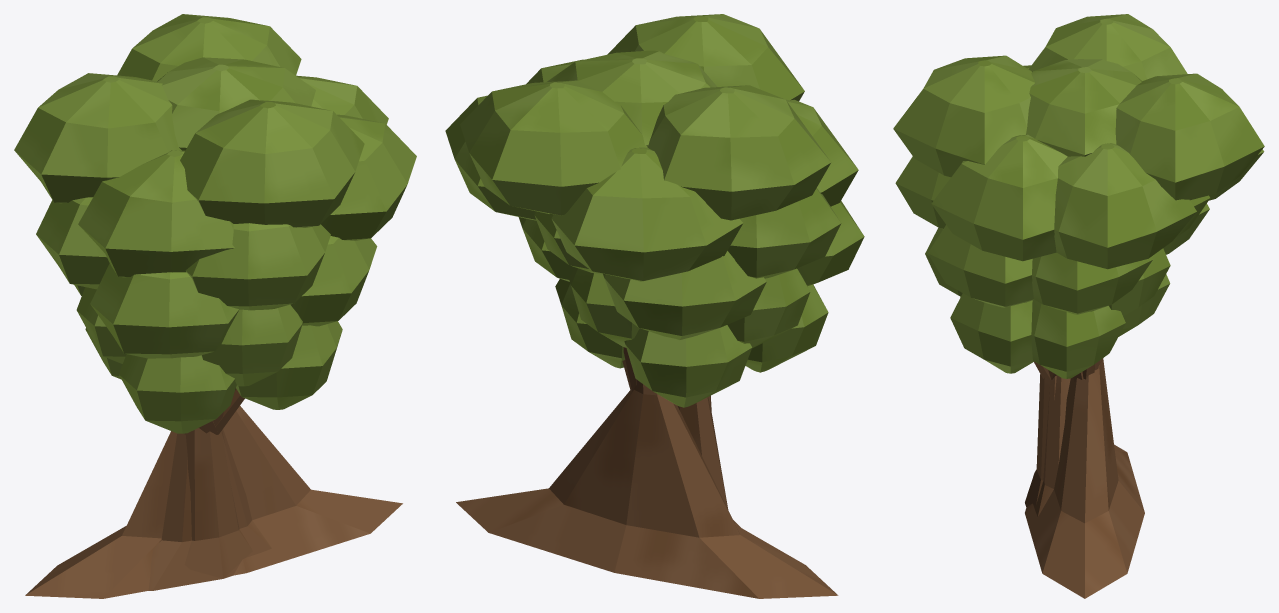
The model's file is moonwood_oak_pilot.glb.
3 renders of one model, left to right at view 1: azimuth 30°, elevation 25°; view 2: azimuth 150°, elevation 25°; view 3: azimuth 270°, elevation 25°, orthographic. The views are drawn at different scales.
Parts seen in each view (by area): view 1: GEO-oak-large, GEO-oak-standard, GEO-oak-small; view 2: GEO-oak-large, GEO-oak-standard, GEO-oak-small; view 3: GEO-oak-large, GEO-oak-standard, GEO-oak-small.
Part boxes in pixels (x1,y1,x2,y2): GEO-oak-large: [14, 14, 416, 598]; GEO-oak-standard: [36, 197, 377, 590]; GEO-oak-small: [76, 287, 342, 578]; GEO-oak-large: [445, 14, 858, 598]; GEO-oak-standard: [518, 188, 864, 527]; GEO-oak-small: [555, 267, 828, 410]; GEO-oak-large: [893, 14, 1264, 598]; GEO-oak-standard: [895, 156, 1210, 516]; GEO-oak-small: [925, 227, 1170, 505].
Size of the model in its own units: 3.06 by 3.74 by 2.8.
1 material, 1 textured.
